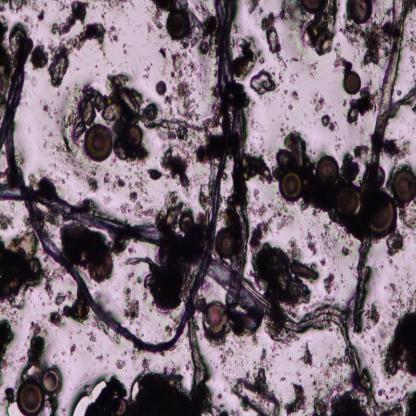Air bubble: (70, 375, 106, 416), (5, 402, 26, 416), (130, 374, 142, 398), (41, 402, 57, 416)
Background material: (274, 128, 337, 217), (250, 222, 318, 304), (138, 250, 189, 314), (0, 233, 42, 309), (59, 87, 107, 153), (160, 46, 201, 122), (58, 224, 111, 281), (381, 292, 416, 378), (130, 374, 205, 414), (105, 75, 158, 129), (346, 21, 391, 72), (309, 380, 370, 414), (0, 26, 26, 95), (87, 375, 126, 414), (345, 84, 380, 126), (22, 320, 46, 376), (49, 1, 87, 36), (305, 12, 335, 56), (152, 191, 183, 233), (160, 150, 192, 190), (253, 197, 293, 229), (64, 22, 107, 51), (109, 132, 148, 162), (47, 45, 72, 90), (321, 222, 352, 256), (191, 7, 213, 54), (232, 39, 259, 75), (196, 132, 226, 163), (63, 292, 90, 325), (244, 157, 274, 186), (262, 11, 282, 54), (0, 314, 14, 373), (283, 383, 309, 414), (280, 0, 305, 32), (250, 71, 277, 98), (164, 129, 197, 151), (122, 285, 141, 323), (382, 138, 412, 162), (320, 356, 350, 378), (252, 352, 274, 376), (103, 172, 125, 194), (144, 11, 165, 34), (81, 166, 99, 192), (101, 1, 132, 16), (31, 43, 48, 69), (138, 352, 157, 374), (386, 235, 404, 258), (306, 227, 319, 258), (341, 160, 360, 181), (38, 209, 59, 227), (301, 342, 316, 367), (198, 182, 211, 209), (135, 201, 154, 219), (288, 51, 306, 70), (310, 92, 327, 112), (0, 211, 16, 232), (333, 51, 351, 69), (48, 308, 65, 326), (153, 0, 178, 12), (86, 330, 98, 354), (305, 59, 321, 77), (323, 272, 335, 295), (353, 144, 368, 162), (323, 116, 338, 134), (275, 53, 290, 70), (142, 62, 154, 82), (146, 168, 162, 183), (8, 0, 25, 14), (43, 99, 54, 120), (246, 0, 261, 14), (108, 27, 119, 45), (5, 386, 15, 405), (161, 324, 175, 336), (54, 291, 65, 306), (114, 358, 127, 370), (290, 88, 300, 101), (68, 340, 76, 356), (130, 192, 140, 204), (38, 7, 45, 22), (282, 83, 288, 96), (288, 104, 294, 112)
Cellulose filter fibre: (244, 283, 384, 416), (352, 1, 406, 332), (176, 266, 210, 401), (144, 118, 212, 130)
Cotton: (0, 179, 265, 351), (213, 0, 266, 338), (1, 37, 36, 184)
Diatom: (362, 187, 399, 239), (232, 377, 280, 415), (203, 300, 228, 340), (87, 123, 112, 162), (16, 379, 43, 415), (392, 167, 416, 205), (337, 184, 361, 221), (166, 9, 190, 42), (316, 154, 339, 186), (216, 227, 239, 258), (280, 171, 302, 203), (349, 1, 373, 25), (41, 366, 61, 394), (344, 70, 362, 97), (302, 0, 329, 15), (128, 125, 142, 149), (181, 213, 193, 234), (155, 79, 168, 96), (115, 398, 128, 414)
